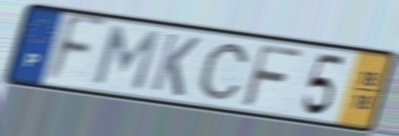5: (301, 51, 348, 117)
C: (196, 41, 253, 102)
F: (42, 11, 112, 87), (238, 41, 305, 111)
K: (147, 30, 203, 99)
M: (89, 23, 163, 93)
